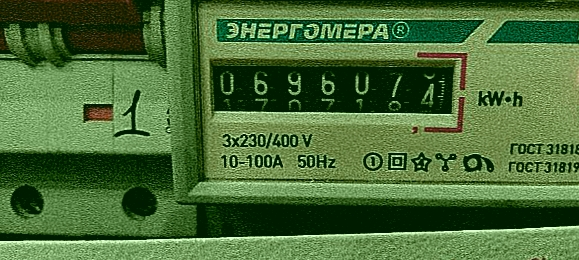0: (216, 69, 237, 97), (353, 68, 371, 97), (252, 69, 269, 96)
4: (418, 82, 436, 110)
6: (318, 67, 336, 97)
7: (386, 69, 404, 98)
9: (285, 69, 303, 97)
screen: (194, 46, 469, 133)
